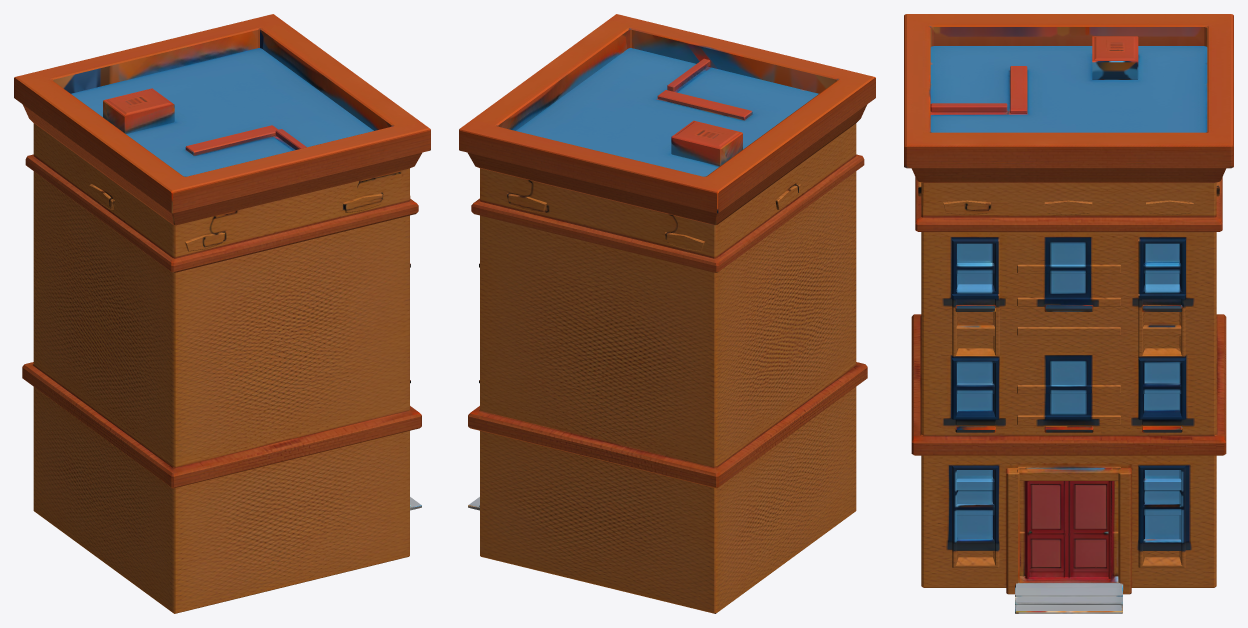
File: buildingOrange.glb
The picture shows the model from 3 angles, left to right: view 1: azimuth 30°, elevation 25°; view 2: azimuth 150°, elevation 25°; view 3: azimuth 270°, elevation 25°; orthographic projection. The views are drawn at different scales.
Parts seen in each view (by area): view 1: tripo_node_e1d0e754-fc46-449f-bec8-9d275684fb0b; view 2: tripo_node_e1d0e754-fc46-449f-bec8-9d275684fb0b; view 3: tripo_node_e1d0e754-fc46-449f-bec8-9d275684fb0b.
Boxes of the visible parts, x1,y1,x2,y2 form: tripo_node_e1d0e754-fc46-449f-bec8-9d275684fb0b: [14, 14, 430, 613]; tripo_node_e1d0e754-fc46-449f-bec8-9d275684fb0b: [459, 14, 875, 613]; tripo_node_e1d0e754-fc46-449f-bec8-9d275684fb0b: [904, 14, 1233, 613].
Size of the model in its own units: 0.6987 by 0.9493 by 0.631.
Materials: 1 (1 with a texture image).
